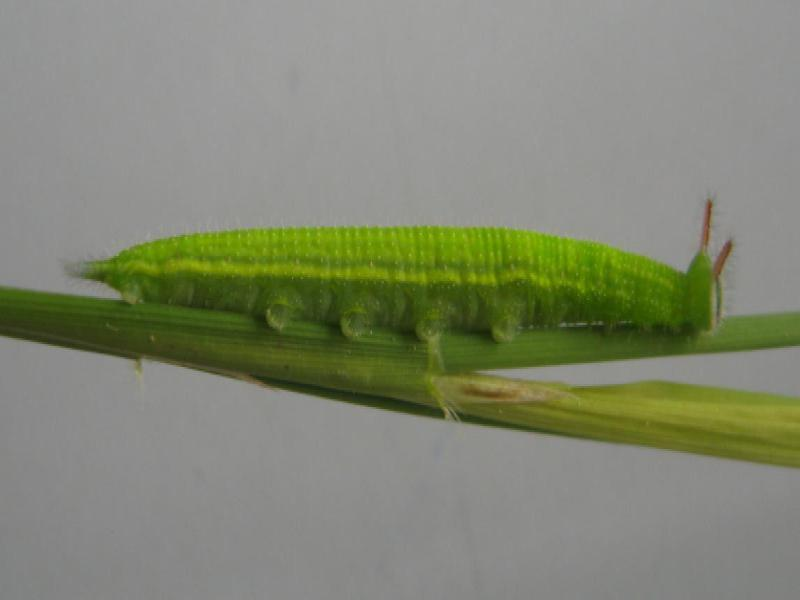Rice_horned_caterpillar: (73, 204, 731, 368)
